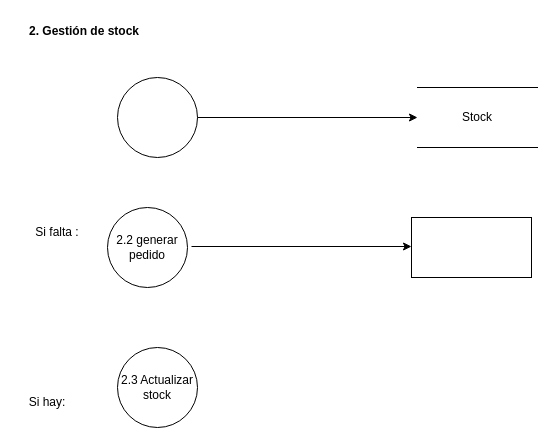
This 555x445 diagram has some shape labels left out. Here are the shapes that lost their labels. From the top down, the box of each, then its label:
(116, 76, 198, 158): 2.1 Consultar stock
(410, 216, 532, 278): Productor
